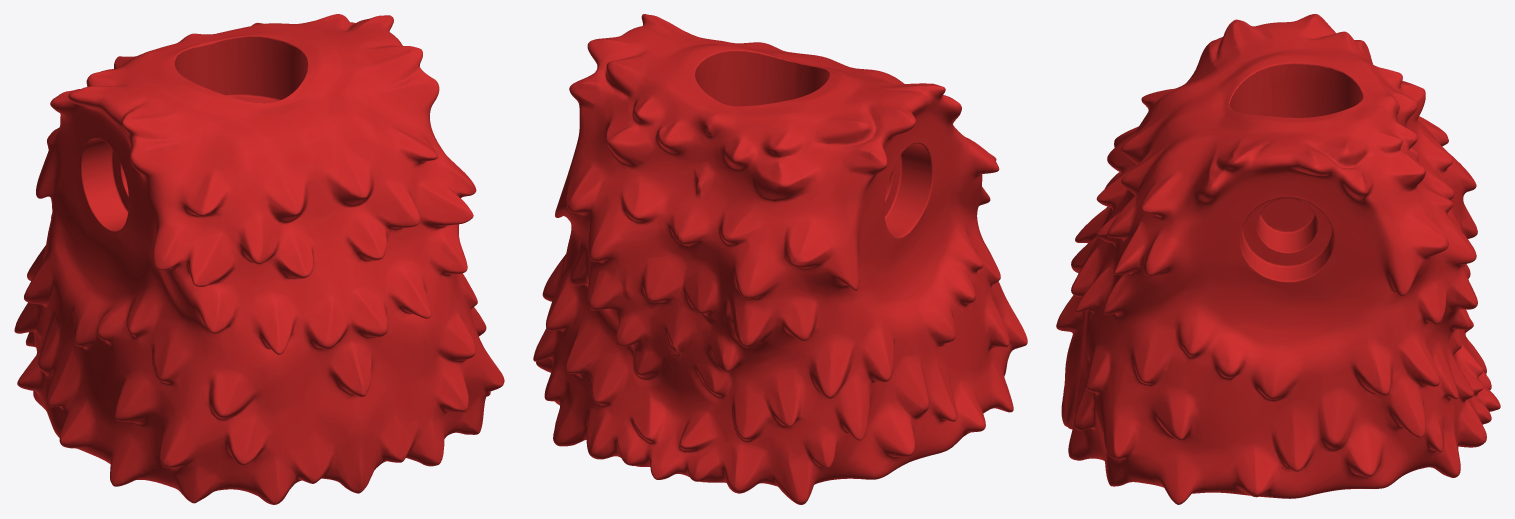
File: Buste_Perroquet.glb
The picture shows the model from 3 angles, left to right: view 1: azimuth 30°, elevation 25°; view 2: azimuth 150°, elevation 25°; view 3: azimuth 270°, elevation 25°; orthographic projection. The views are drawn at different scales.
Visible parts, largest first — view 1: Buste_Perroquet; view 2: Buste_Perroquet; view 3: Buste_Perroquet.
Boxes of the visible parts, box(x1,y1,x2,y2) form: Buste_Perroquet: box(14, 14, 504, 504); Buste_Perroquet: box(533, 14, 1027, 504); Buste_Perroquet: box(1056, 14, 1500, 504).
Size of the model in its own units: 4.41 by 3.66 by 4.33.
